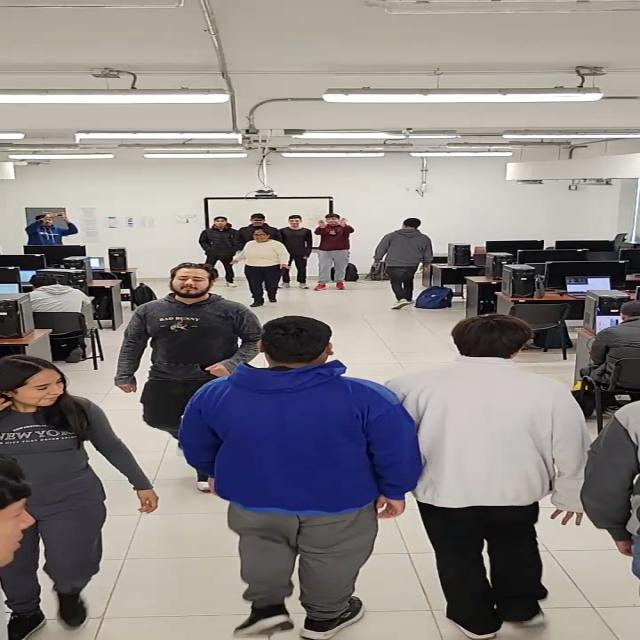Persona: (175, 316, 425, 640), (387, 314, 594, 640), (0, 353, 162, 640), (109, 263, 262, 494), (372, 218, 433, 310), (229, 228, 291, 310), (313, 213, 355, 291), (197, 217, 240, 288), (280, 215, 314, 289), (234, 212, 282, 247)
